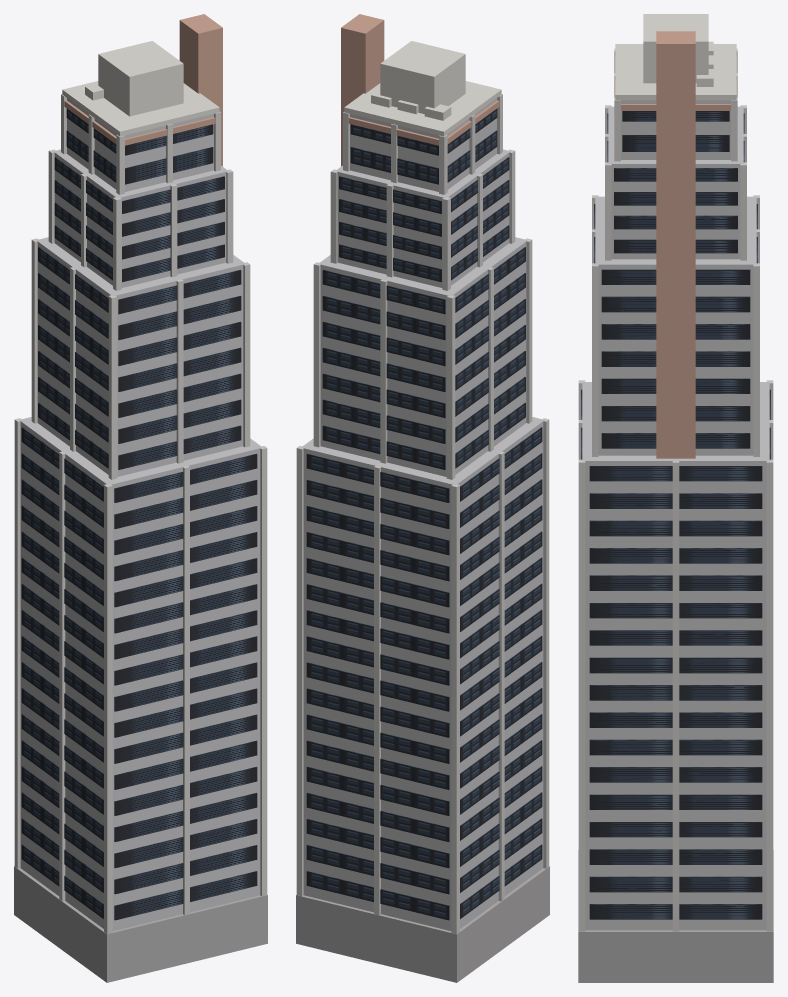
File: skyline-tower-landmark-tank.glb
The picture shows the model from 3 angles, left to right: view 1: azimuth 30°, elevation 25°; view 2: azimuth 150°, elevation 25°; view 3: azimuth 270°, elevation 25°; orthographic projection. The views are drawn at different scales.
Visible parts, largest first — view 1: windows, body-1, pilasters, body-2, podium, body-3, roof-detail, core, parapet, body-4, crown-band; view 2: windows, body-1, pilasters, body-2, podium, body-3, roof-detail, core, body-4, parapet, crown-band; view 3: windows, body-1, pilasters, core, body-2, podium, body-3, parapet, roof-detail, body-4, crown-band.
Part boxes in pixels (bbox=[...]): windows: bbox=[21, 108, 257, 920]; body-1: bbox=[19, 417, 262, 930]; pilasters: bbox=[14, 94, 267, 933]; body-2: bbox=[36, 237, 245, 476]; podium: bbox=[14, 866, 267, 982]; body-3: bbox=[53, 149, 228, 287]; roof-detail: bbox=[85, 41, 183, 116]; core: bbox=[179, 14, 222, 166]; parapet: bbox=[62, 81, 219, 136]; body-4: bbox=[67, 98, 213, 191]; crown-band: bbox=[64, 100, 215, 145]; windows: bbox=[306, 108, 542, 920]; body-1: bbox=[301, 417, 544, 930]; pilasters: bbox=[296, 94, 549, 933]; body-2: bbox=[318, 237, 527, 476]; podium: bbox=[296, 866, 549, 982]; body-3: bbox=[335, 149, 510, 287]; roof-detail: bbox=[371, 41, 465, 120]; core: bbox=[341, 14, 384, 166]; body-4: bbox=[350, 98, 496, 191]; parapet: bbox=[344, 81, 501, 136]; crown-band: bbox=[348, 100, 499, 145]; windows: bbox=[581, 111, 770, 919]; body-1: bbox=[582, 382, 769, 930]; pilasters: bbox=[578, 48, 773, 931]; core: bbox=[656, 31, 695, 458]; body-2: bbox=[595, 196, 756, 455]; podium: bbox=[578, 850, 773, 982]; body-3: bbox=[608, 106, 743, 259]; parapet: bbox=[615, 44, 736, 100]; roof-detail: bbox=[643, 14, 713, 86]; body-4: bbox=[621, 100, 730, 159]; crown-band: bbox=[615, 56, 736, 110].
Bounding box in the file's own units: 20.8 × 110 × 20.8.
Materials: 6 (1 with a texture image).
